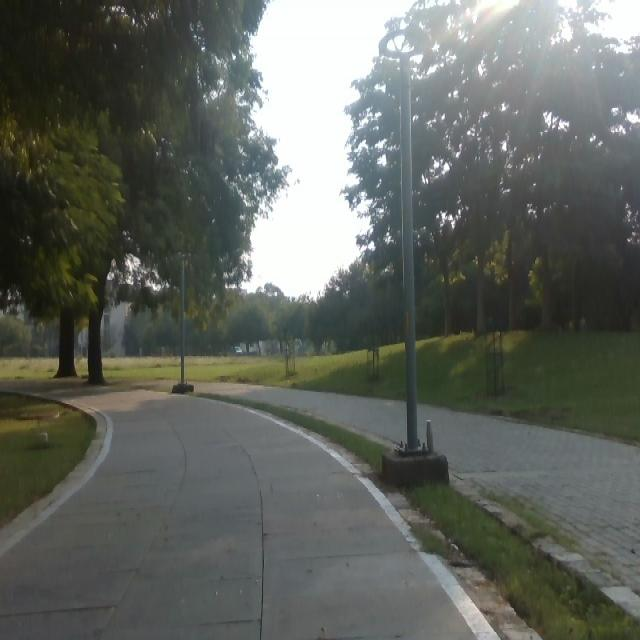lane: (6, 383, 469, 635)
